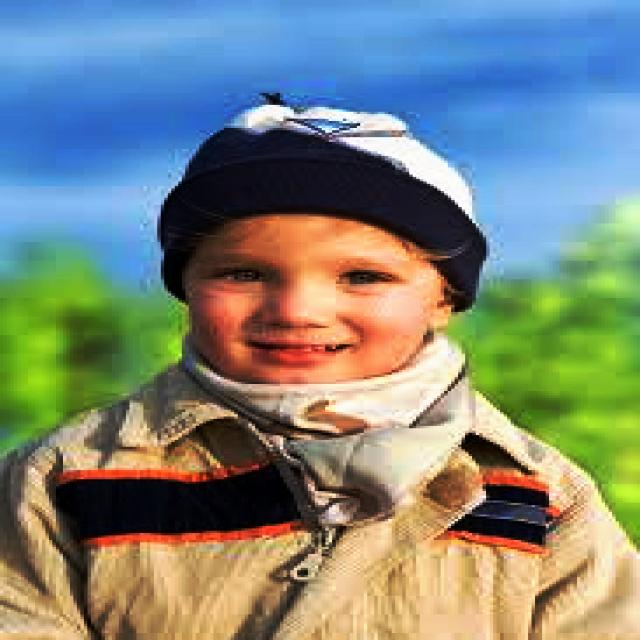TOPI: (117, 86, 493, 258)
